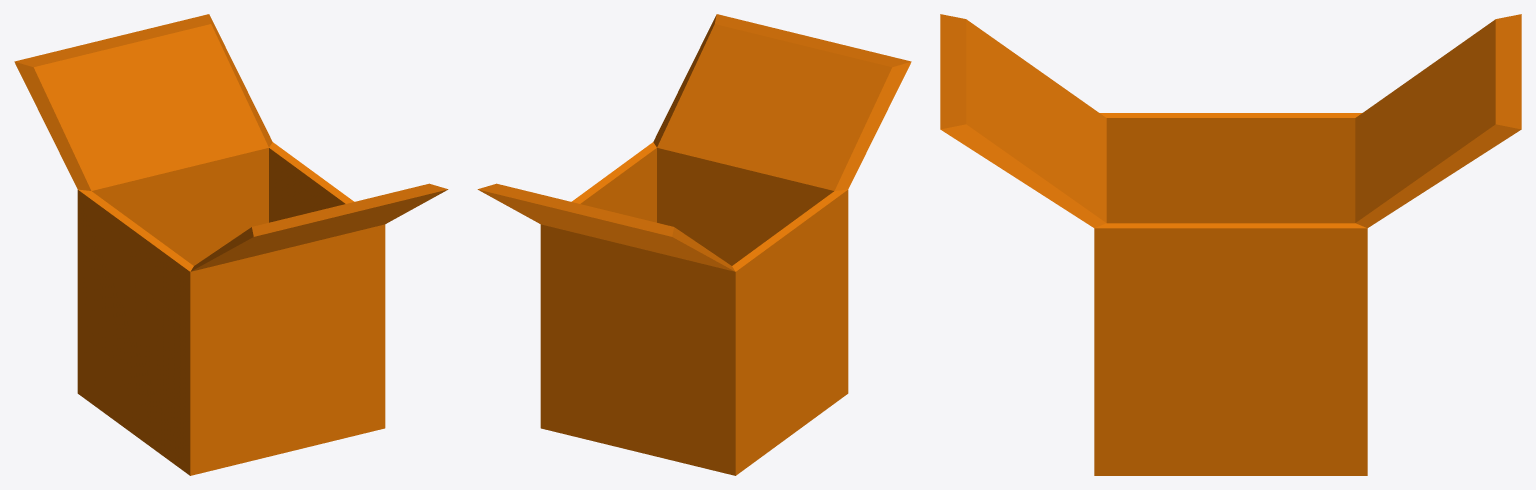
Rendered from Props_StorageRoom_CardboardBox.fbx.
3 renders of one model, left to right at view 1: azimuth 30°, elevation 25°; view 2: azimuth 150°, elevation 25°; view 3: azimuth 270°, elevation 25°, orthographic. The views are drawn at different scales.
Visible parts, largest first — view 1: CaixaPapelão; view 2: CaixaPapelão; view 3: CaixaPapelão.
Boxes of the visible parts, bbox=[...] form: CaixaPapelão: bbox=[14, 14, 448, 475]; CaixaPapelão: bbox=[477, 14, 911, 475]; CaixaPapelão: bbox=[940, 14, 1521, 475].
Bounding box in the file's own units: 200 × 280 × 426.
